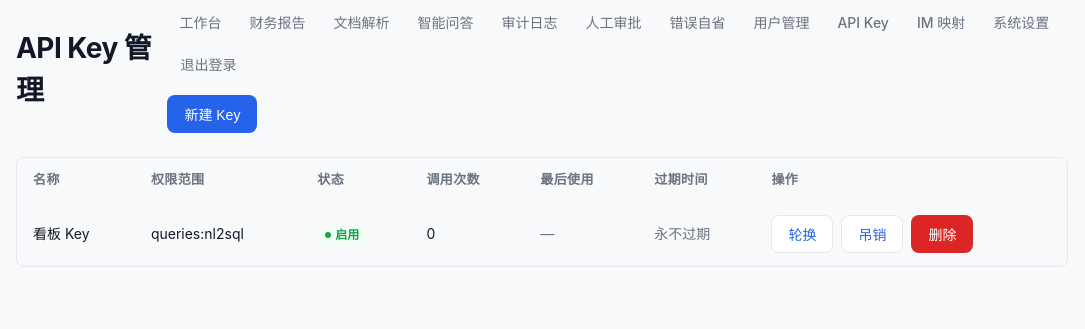
it: ApiKeysPage › 确认删除 Key 后从列表移除
expect the text "看板 Key" is shown: met, box [17,202,135,265]
Click the button "删除" at (942, 234), box [911,214,973,252]
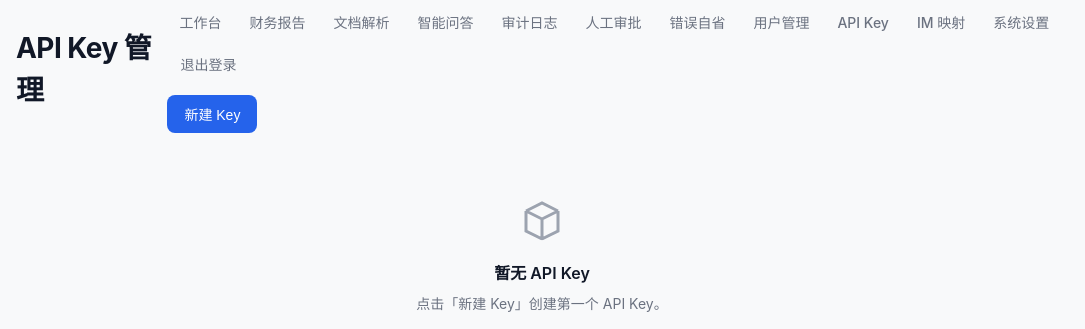
expect the text "看板 Key" is gone: met
